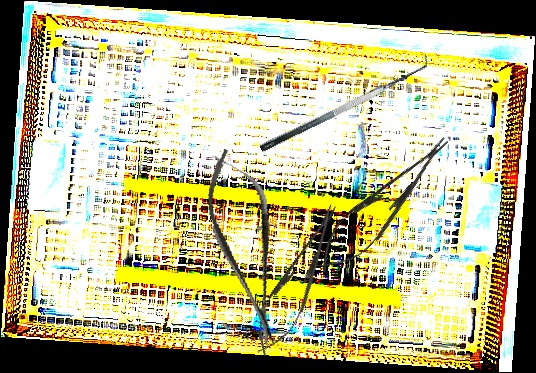Micro Scissor: (194, 142, 298, 352)
Needle Holder: (306, 124, 463, 285), (244, 196, 352, 363)
Spatula Surgical: (252, 51, 435, 153)
